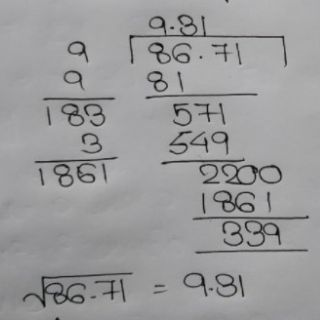.: (196, 52, 204, 60)
1: (41, 103, 55, 127), (265, 189, 274, 214), (199, 188, 207, 215)
3: (176, 10, 199, 36)
4: (189, 129, 210, 154)
5: (164, 128, 191, 155), (171, 99, 193, 129)
6: (76, 163, 97, 186)
7: (194, 99, 216, 124)
8: (213, 187, 235, 214), (146, 68, 169, 93), (53, 163, 71, 190)
9: (65, 37, 91, 66), (148, 11, 169, 35)
